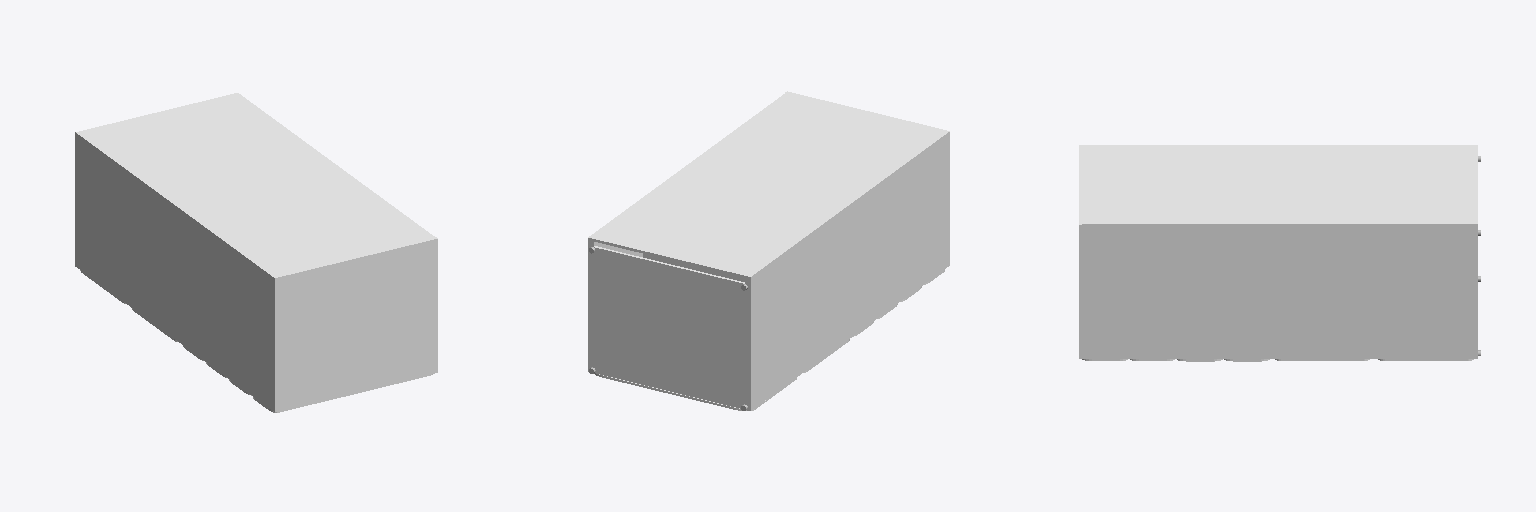
File: StuvaFritids6Drawers_White.obj
3 renders of one model, left to right at view 1: azimuth 30°, elevation 25°; view 2: azimuth 150°, elevation 25°; view 3: azimuth 270°, elevation 25°, orthographic.
Visible parts, largest first — view 1: obj_0; view 2: obj_0; view 3: obj_0.
Boxes of the visible parts, x1=… form: obj_0: x1=75, y1=93, x2=437, y2=412; obj_0: x1=588, y1=91, x2=949, y2=410; obj_0: x1=1079, y1=145, x2=1480, y2=361.
Size of the model in its own units: 60 by 50 by 128.